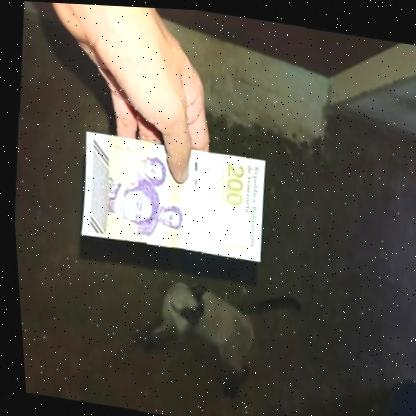two_hundred-front-vef: (71, 127, 269, 261)
